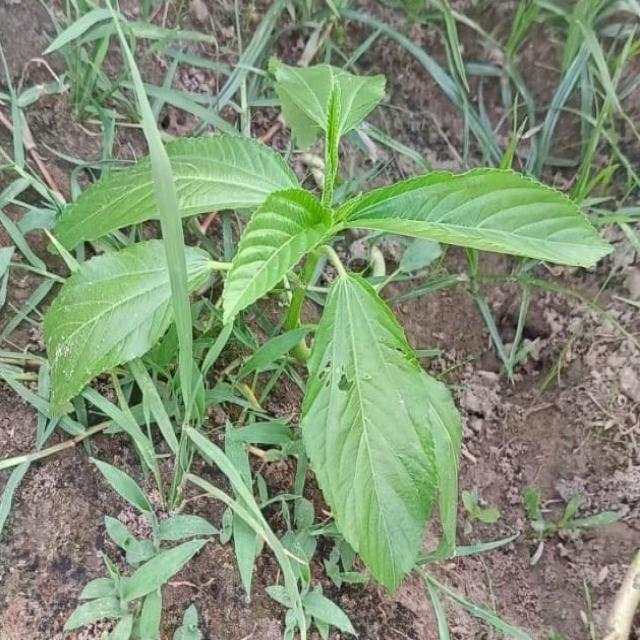plant: (166, 65, 609, 320), (301, 257, 460, 586), (45, 240, 171, 405), (56, 163, 158, 247), (187, 247, 220, 291)
